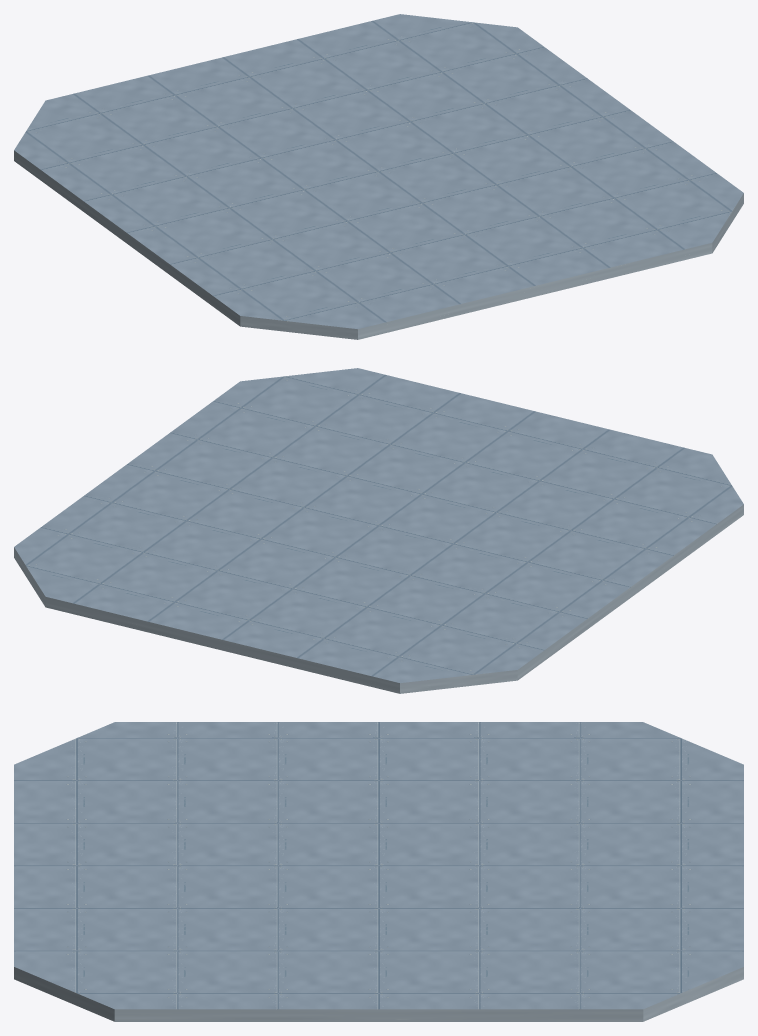
Rendered from SM_RangeFloor.glb.
The picture shows the model from 3 angles, top to bottom: view 1: azimuth 30°, elevation 25°; view 2: azimuth 150°, elevation 25°; view 3: azimuth 270°, elevation 25°; orthographic projection. The views are drawn at different scales.
Visible parts, largest first — view 1: SM_RangeFloor; view 2: SM_RangeFloor; view 3: SM_RangeFloor.
Boxes of the visible parts, left/top/right/bottom form: SM_RangeFloor: left=14, top=14, right=743, bottom=339; SM_RangeFloor: left=14, top=368, right=743, bottom=693; SM_RangeFloor: left=14, top=722, right=743, bottom=1021.
Size of the model in its own units: 10.8 by 0.22 by 11.6.
1 material, 1 textured.
